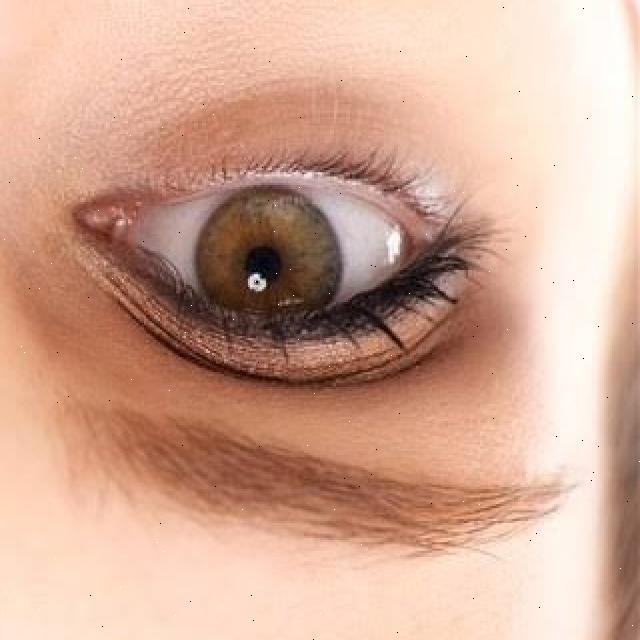Normal: (191, 182, 346, 338)
